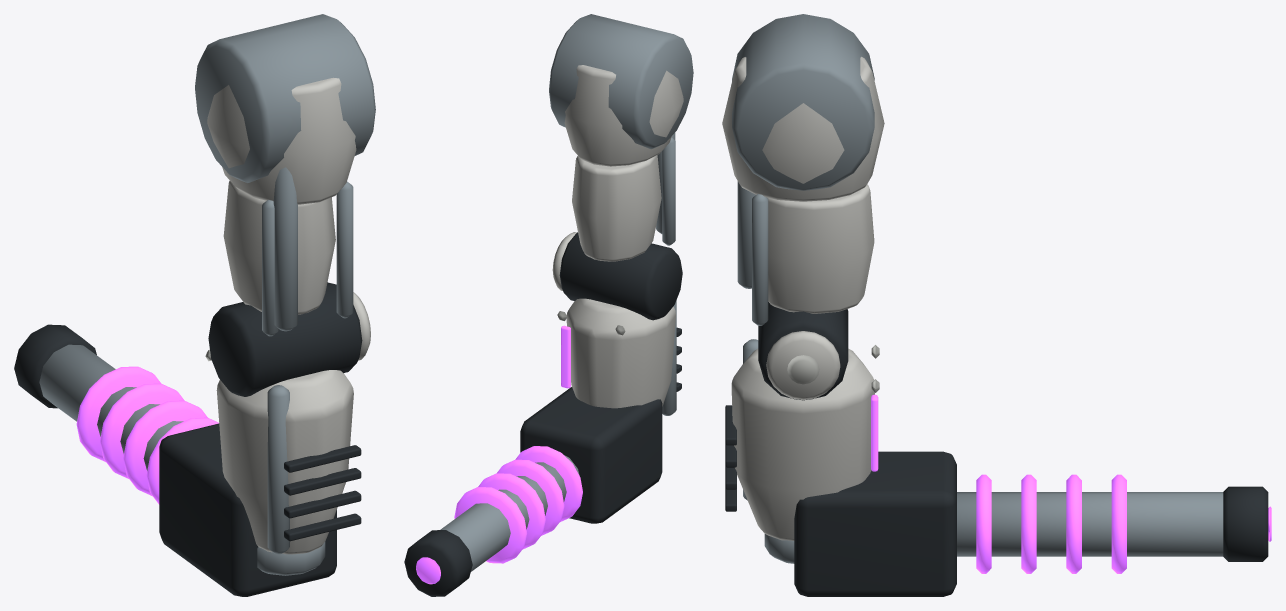
File: arms_12.glb
3 renders of one model, left to right at view 1: azimuth 30°, elevation 25°; view 2: azimuth 150°, elevation 25°; view 3: azimuth 270°, elevation 25°, orthographic. The views are drawn at different scales.
Parts seen in each view (by area): view 1: Forearm.011_Geometry, UpperArm.011_Geometry, Shoulder bearing.011; view 2: Forearm.011_Geometry, UpperArm.011_Geometry, Shoulder bearing.011; view 3: Forearm.011_Geometry, UpperArm.011_Geometry, Shoulder bearing.011.
Part boxes in pixels (bbox=[...]): Forearm.011_Geometry: bbox=[14, 292, 370, 596]; UpperArm.011_Geometry: bbox=[207, 77, 362, 396]; Shoulder bearing.011: bbox=[195, 14, 375, 182]; Forearm.011_Geometry: bbox=[404, 232, 681, 596]; UpperArm.011_Geometry: bbox=[559, 65, 683, 320]; Shoulder bearing.011: bbox=[549, 14, 693, 149]; Forearm.011_Geometry: bbox=[725, 331, 1271, 596]; UpperArm.011_Geometry: bbox=[722, 56, 884, 400]; Shoulder bearing.011: bbox=[732, 14, 874, 190].
Size of the model in its own units: 0.1757 by 0.659 by 0.609.
